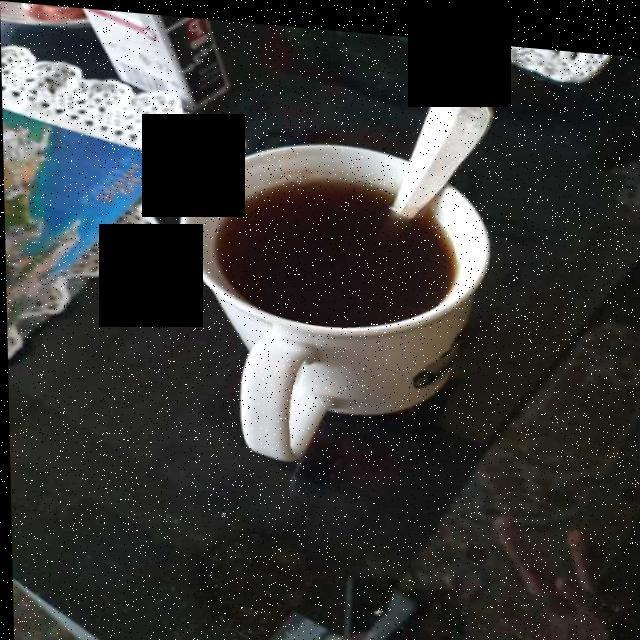tea: (229, 170, 437, 318)
